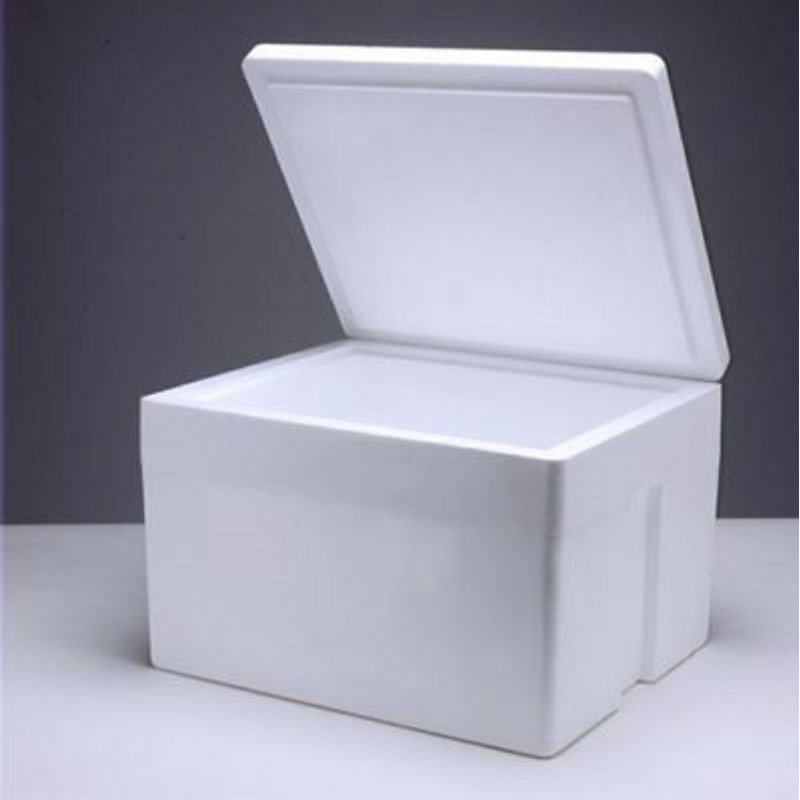Boxes: (141, 46, 729, 756)
